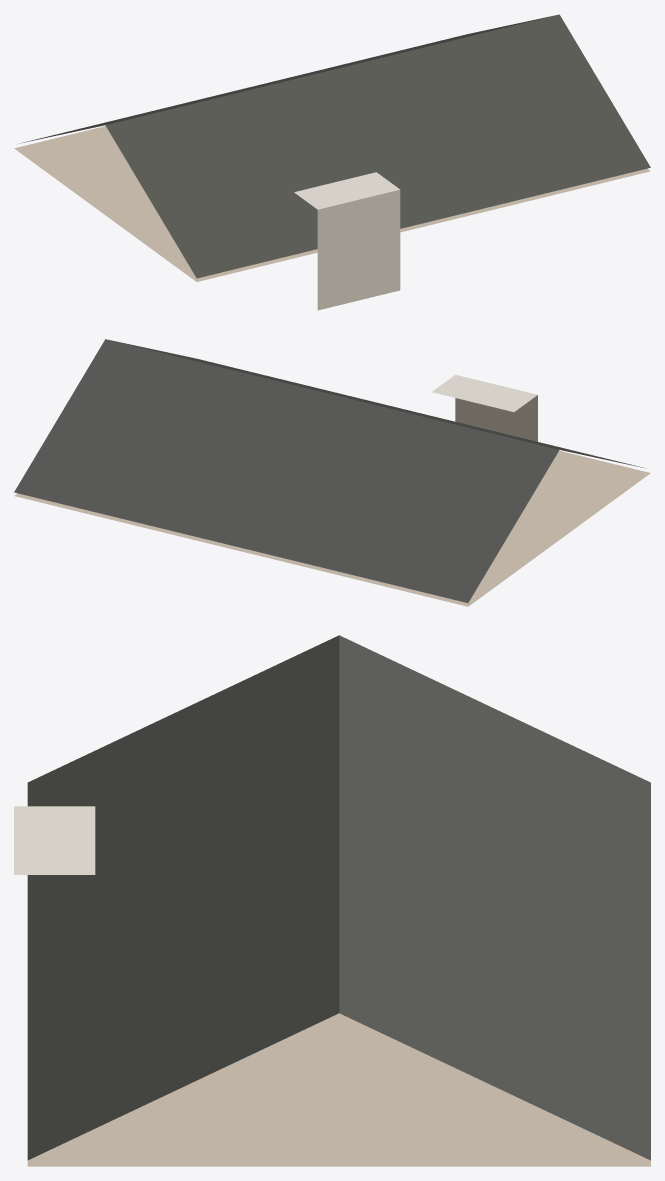
File: fixture-roof.glb
3 renders of one model, top to bottom at view 1: azimuth 30°, elevation 25°; view 2: azimuth 150°, elevation 25°; view 3: azimuth 270°, elevation 25°, orthographic. The views are drawn at different scales.
Parts seen in each view (by area): view 1: s-e-roof-fx-south, s-e-roof-fx-under, s-e-dormer-fx-wall, s-e-dormer-fx-ceiling, s-e-roof-fx-north; view 2: s-e-roof-fx-north, s-e-roof-fx-under, s-e-dormer-fx-wall, s-e-dormer-fx-ceiling, s-e-roof-fx-south; view 3: s-e-roof-fx-north, s-e-roof-fx-south, s-e-roof-fx-under, s-e-dormer-fx-ceiling.
Boxes of the visible parts, box(x1,y1,x2,y2) form: s-e-roof-fx-south: box(105, 14, 650, 278); s-e-roof-fx-under: box(14, 126, 650, 281); s-e-dormer-fx-wall: box(317, 189, 400, 310); s-e-dormer-fx-ceiling: box(294, 172, 399, 209); s-e-roof-fx-north: box(19, 15, 553, 143); s-e-roof-fx-north: box(14, 339, 559, 602); s-e-roof-fx-under: box(14, 450, 650, 606); s-e-dormer-fx-wall: box(455, 395, 537, 441); s-e-dormer-fx-ceiling: box(432, 374, 537, 411); s-e-roof-fx-south: box(111, 340, 646, 468); s-e-roof-fx-north: box(339, 635, 650, 1160); s-e-roof-fx-south: box(27, 635, 339, 1160); s-e-roof-fx-under: box(27, 1013, 650, 1166); s-e-dormer-fx-ceiling: box(14, 806, 95, 874).
Size of the model in its own units: 6.6 by 2 by 4.7.
